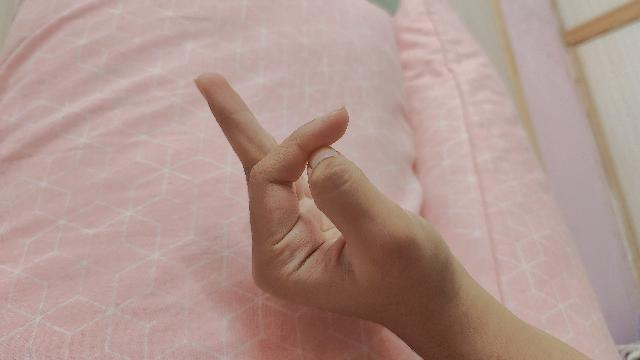aral: (194, 73, 591, 360)
